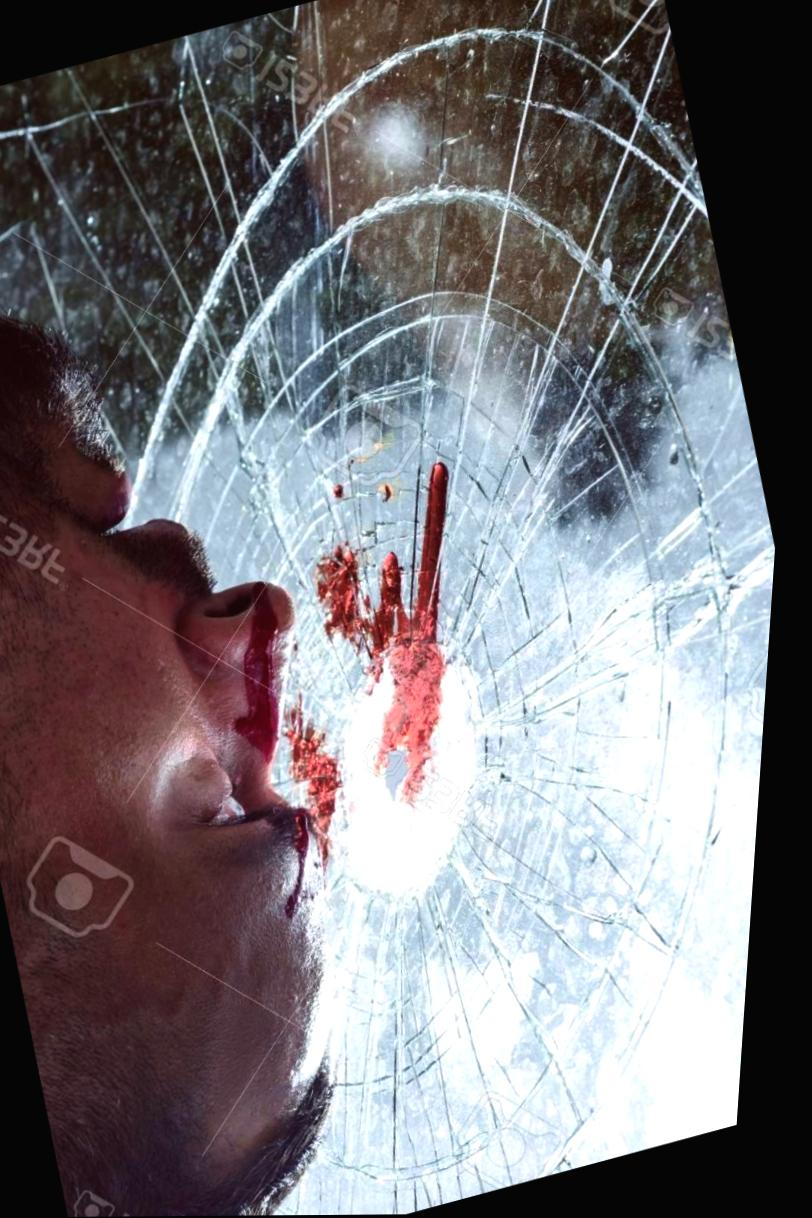Fire: (324, 463, 456, 806), (244, 584, 289, 763), (298, 733, 352, 874)
